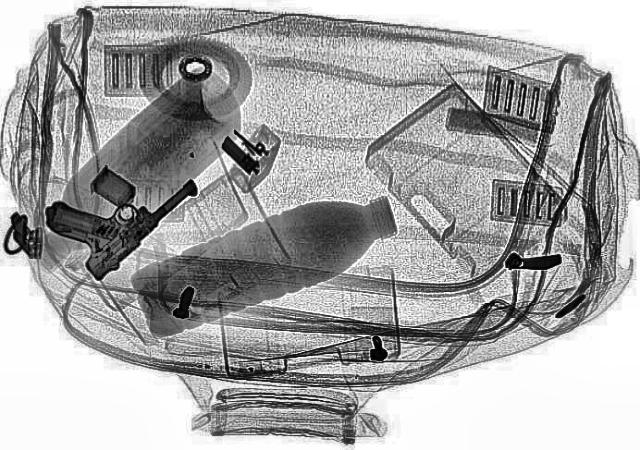Gun: (0, 154, 230, 292)
